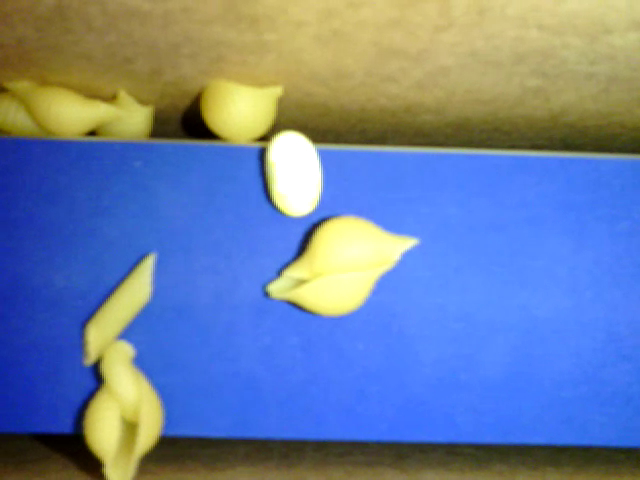elbow: (102, 336, 136, 416)
penne: (84, 249, 159, 360)
shell: (256, 208, 417, 322), (82, 363, 162, 479), (3, 79, 128, 137), (194, 75, 285, 142), (93, 85, 155, 137), (1, 86, 53, 139)
